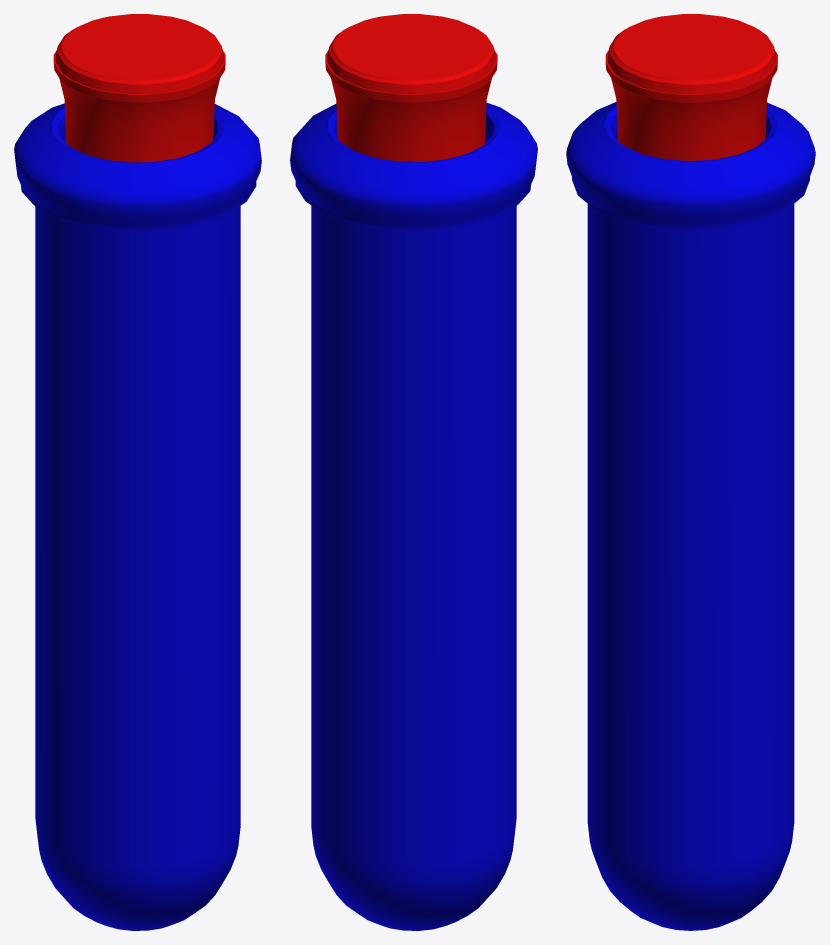
Rendered from Shadow Vile.fbx.
3 renders of one model, left to right at view 1: azimuth 30°, elevation 25°; view 2: azimuth 150°, elevation 25°; view 3: azimuth 270°, elevation 25°, orthographic.
Parts seen in each view (by area): view 1: pCylinder3; view 2: pCylinder3; view 3: pCylinder3.
Boxes of the visible parts, bbox=[...] form: pCylinder3: bbox=[14, 14, 261, 930]; pCylinder3: bbox=[290, 14, 537, 930]; pCylinder3: bbox=[566, 14, 815, 930].
Bounding box in the file's own units: 3.94 × 15.2 × 3.94.
